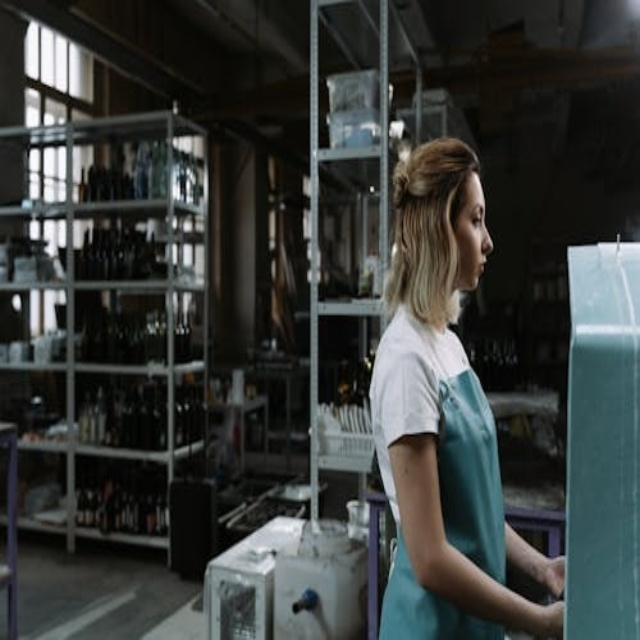Sin_gafas: (458, 198, 484, 231)
Sin_mascara: (463, 252, 493, 286)
